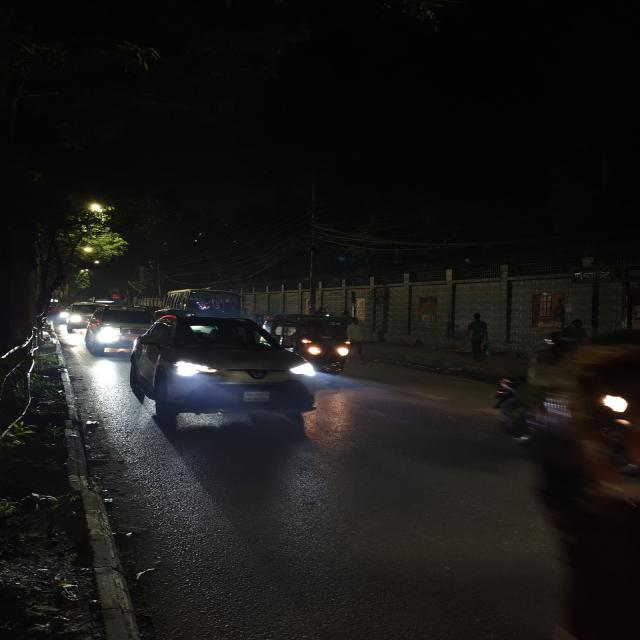bus: (158, 290, 248, 316)
car: (127, 313, 321, 436), (82, 306, 155, 356), (62, 301, 106, 329)
cng: (272, 311, 351, 370)
pedestrian: (462, 310, 495, 364)
